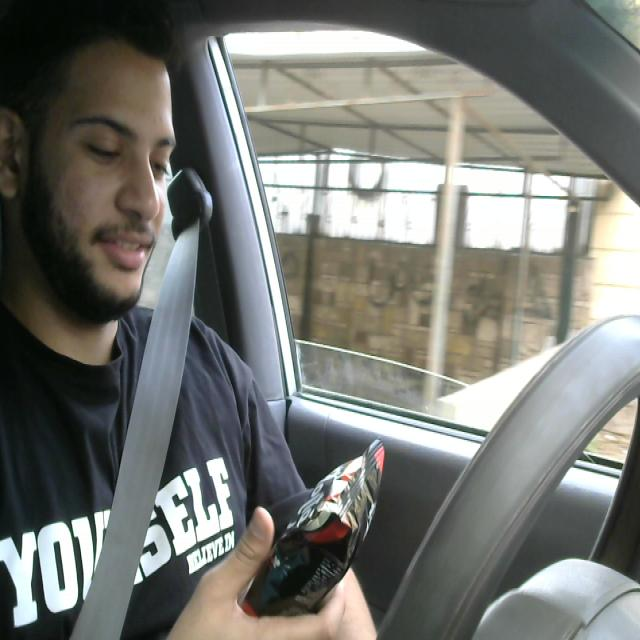eating: (226, 431, 400, 640)
